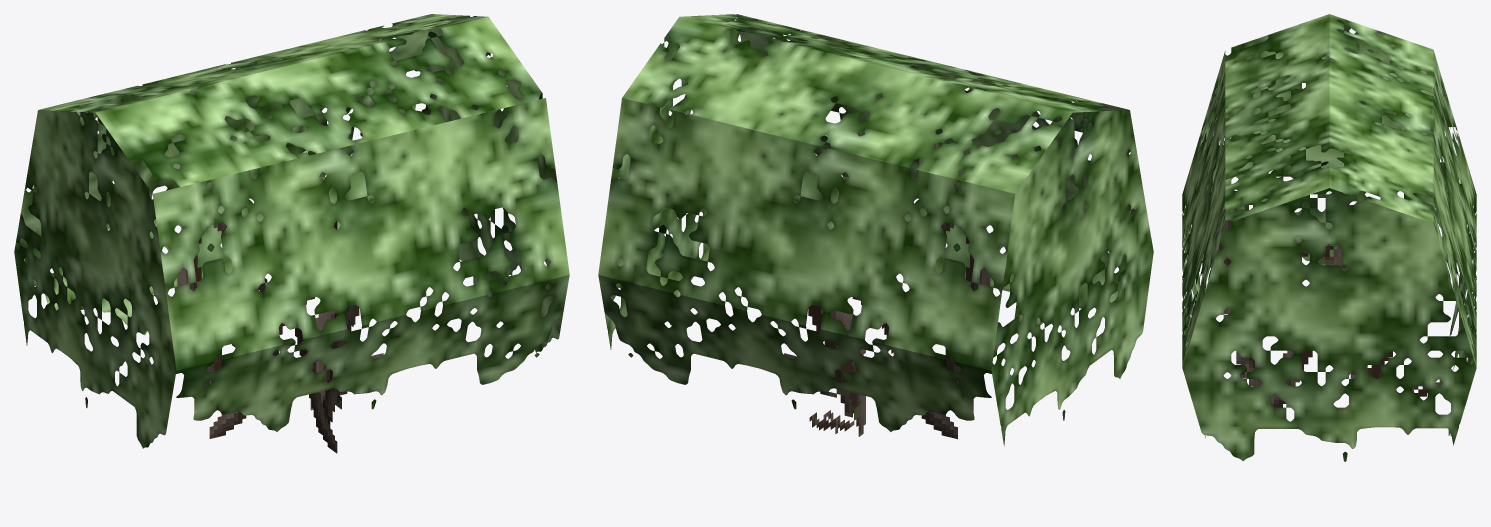
File: bush_long_half_roots_summer.fbx
3 views of the same model, side by side, from view 1: azimuth 30°, elevation 25°; view 2: azimuth 150°, elevation 25°; view 3: azimuth 270°, elevation 25° (orthographic). The views are drawn at different scales.
Parts seen in each view (by area): view 1: bush_long_half_roots_summer; view 2: bush_long_half_roots_summer; view 3: bush_long_half_roots_summer.
Boxes of the visible parts, x1,y1,x2,y2 form: bush_long_half_roots_summer: (14, 14, 569, 453); bush_long_half_roots_summer: (598, 14, 1153, 446); bush_long_half_roots_summer: (1182, 14, 1476, 461).
Size of the model in its own units: 101 by 87.65 by 71.91.
Materials: 2 (2 with a texture image).
